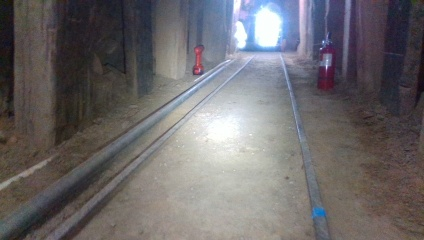drill: (192, 44, 205, 75)
fire_extinguisher: (314, 29, 336, 94)
manikin: (234, 7, 253, 53)
